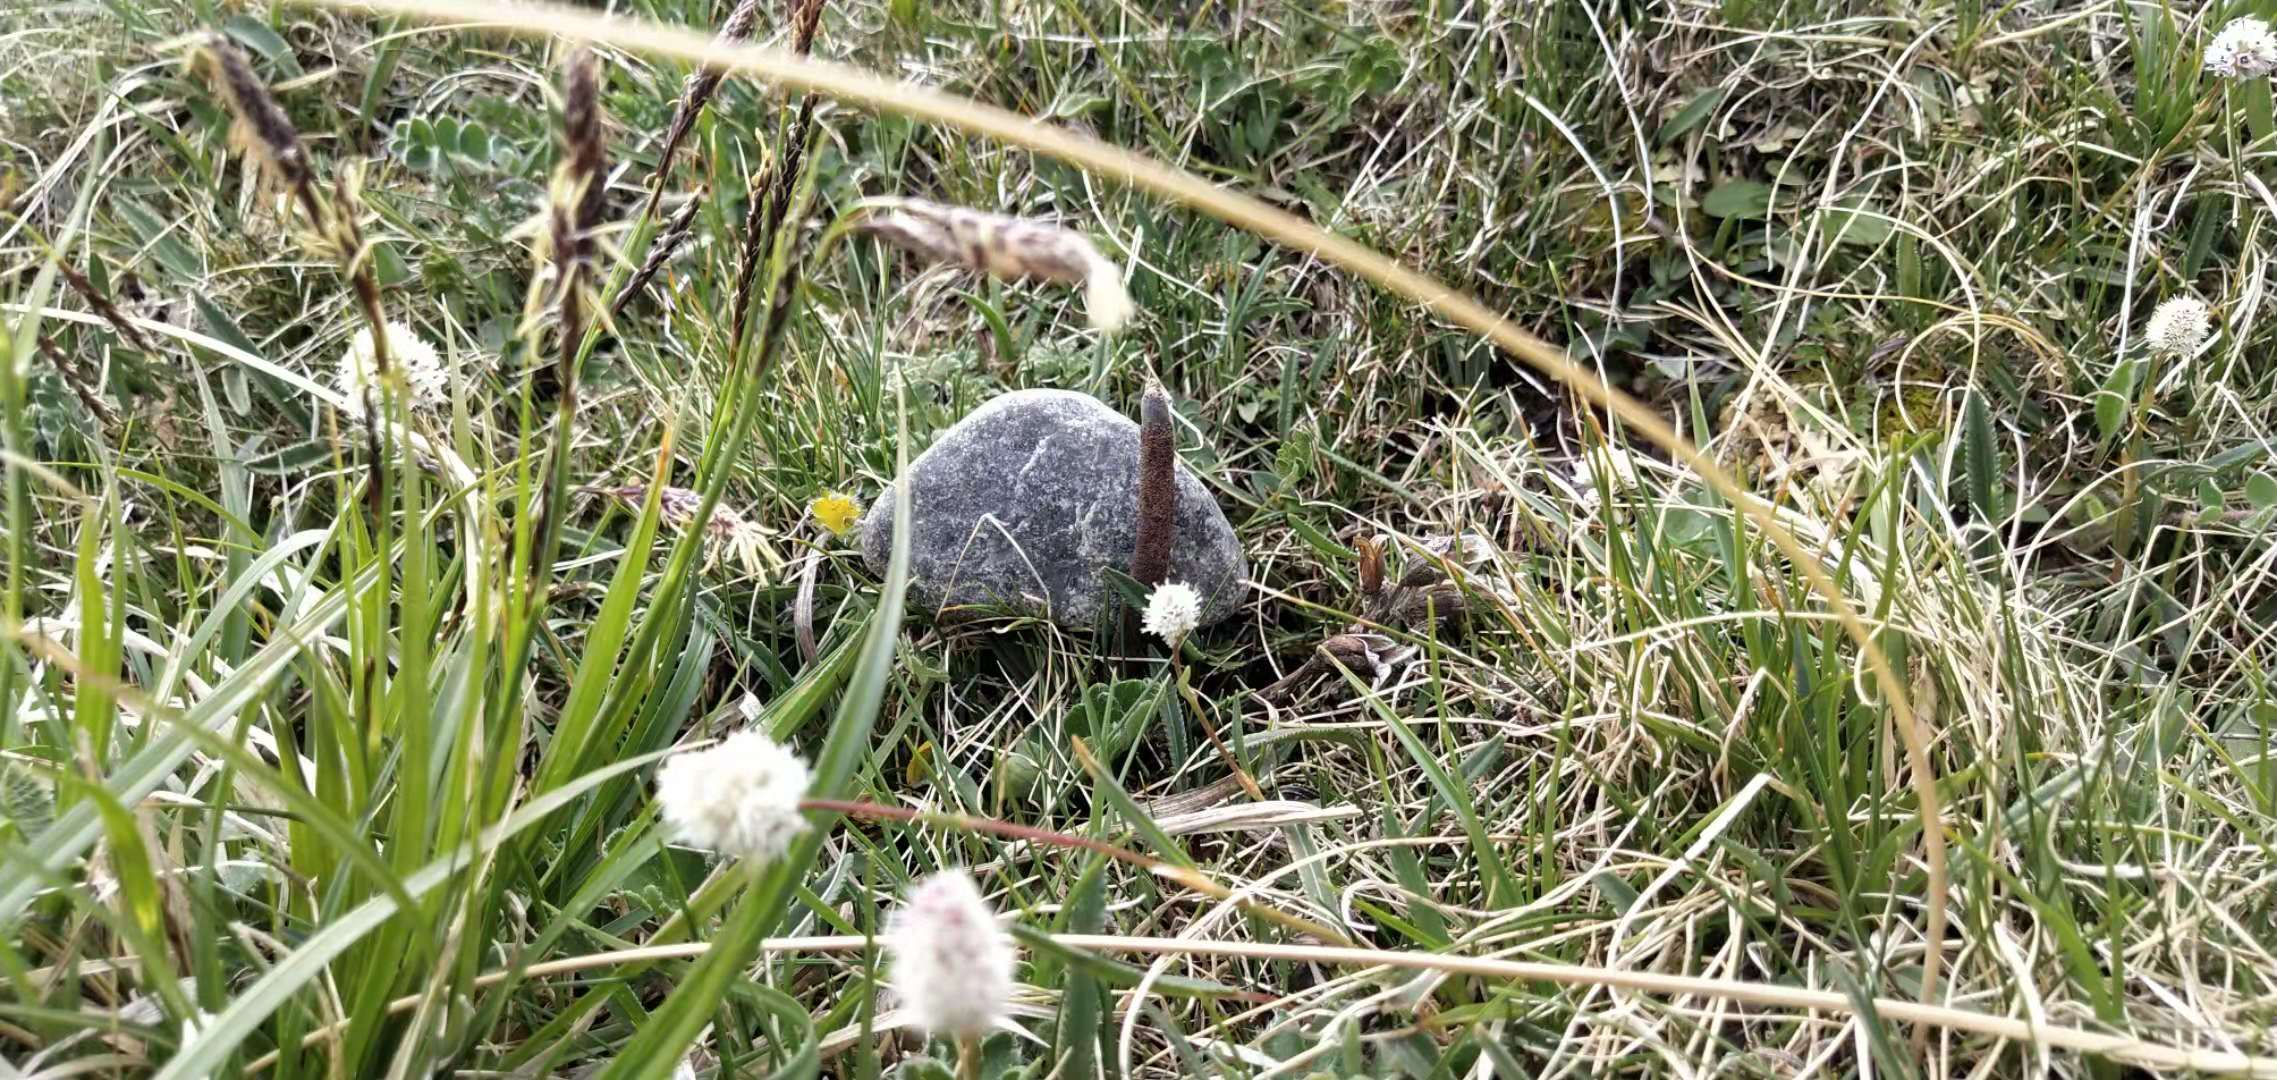Chongcao: (1137, 377, 1176, 585)
